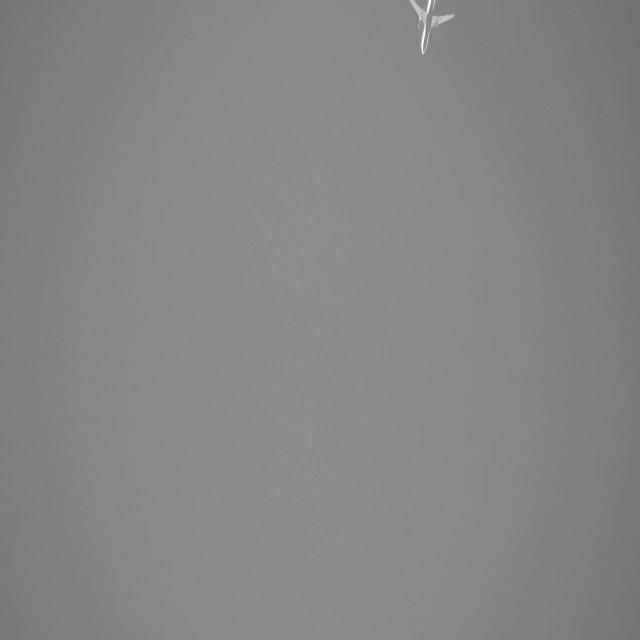aeroplane: (409, 0, 457, 59)
